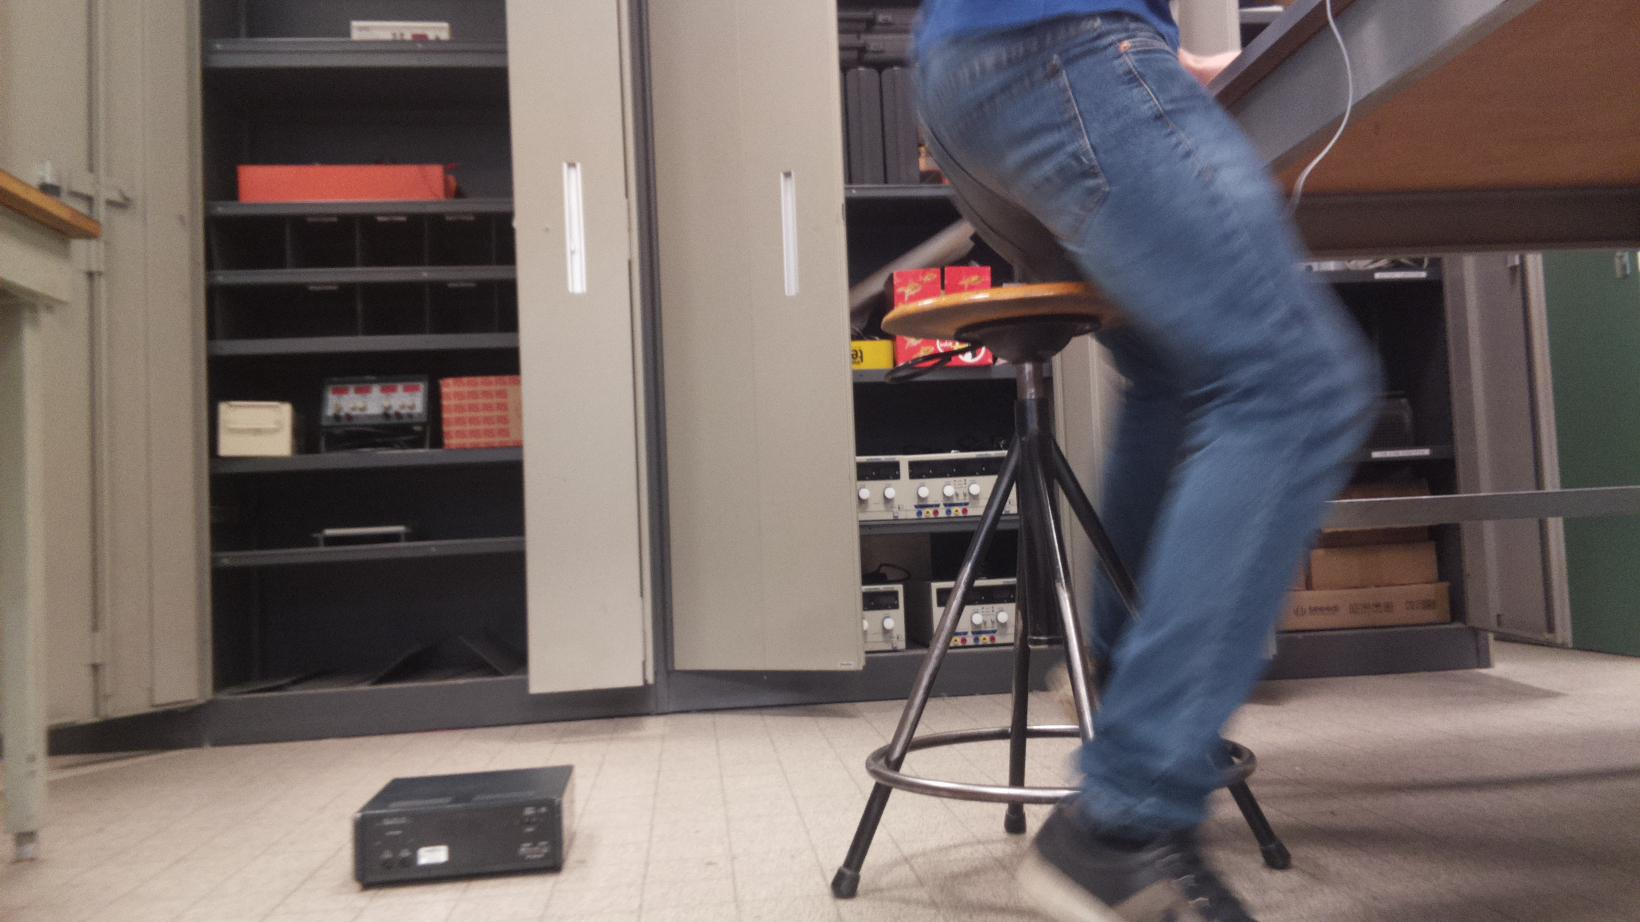medium: (359, 769, 570, 878)
